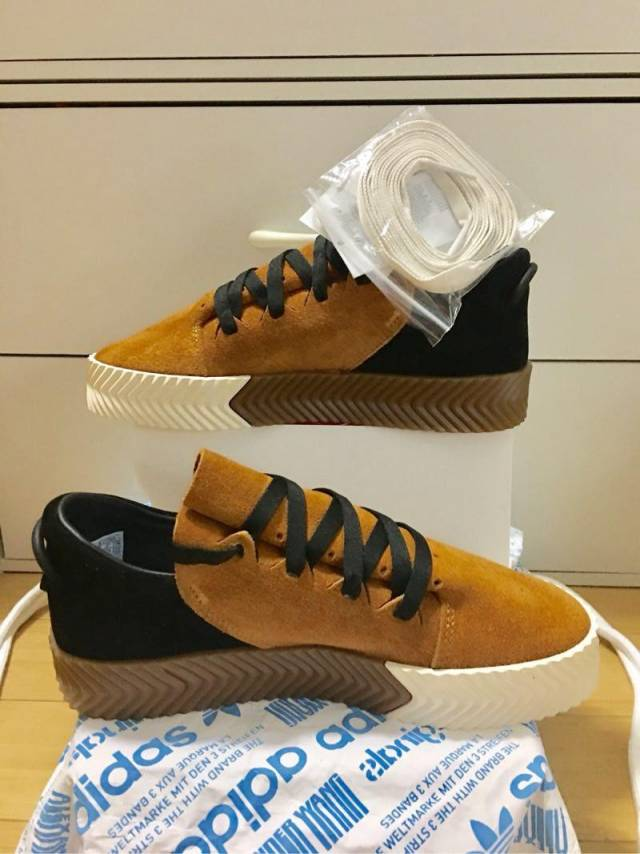adidas AW Skate Sand: (22, 434, 627, 751), (59, 110, 577, 461)
